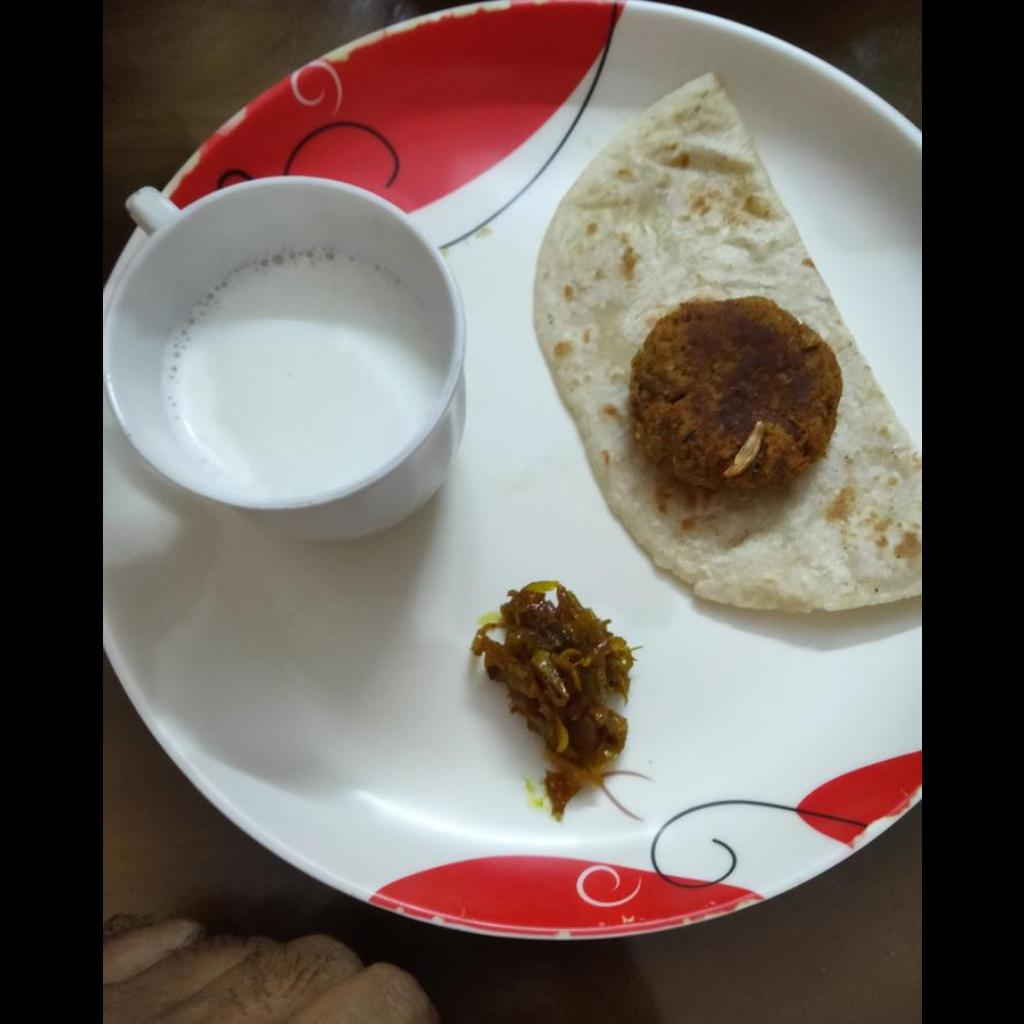achar: (472, 581, 631, 818)
kabab: (633, 294, 842, 499)
milk: (164, 252, 440, 487)
ruti: (533, 77, 920, 611)
